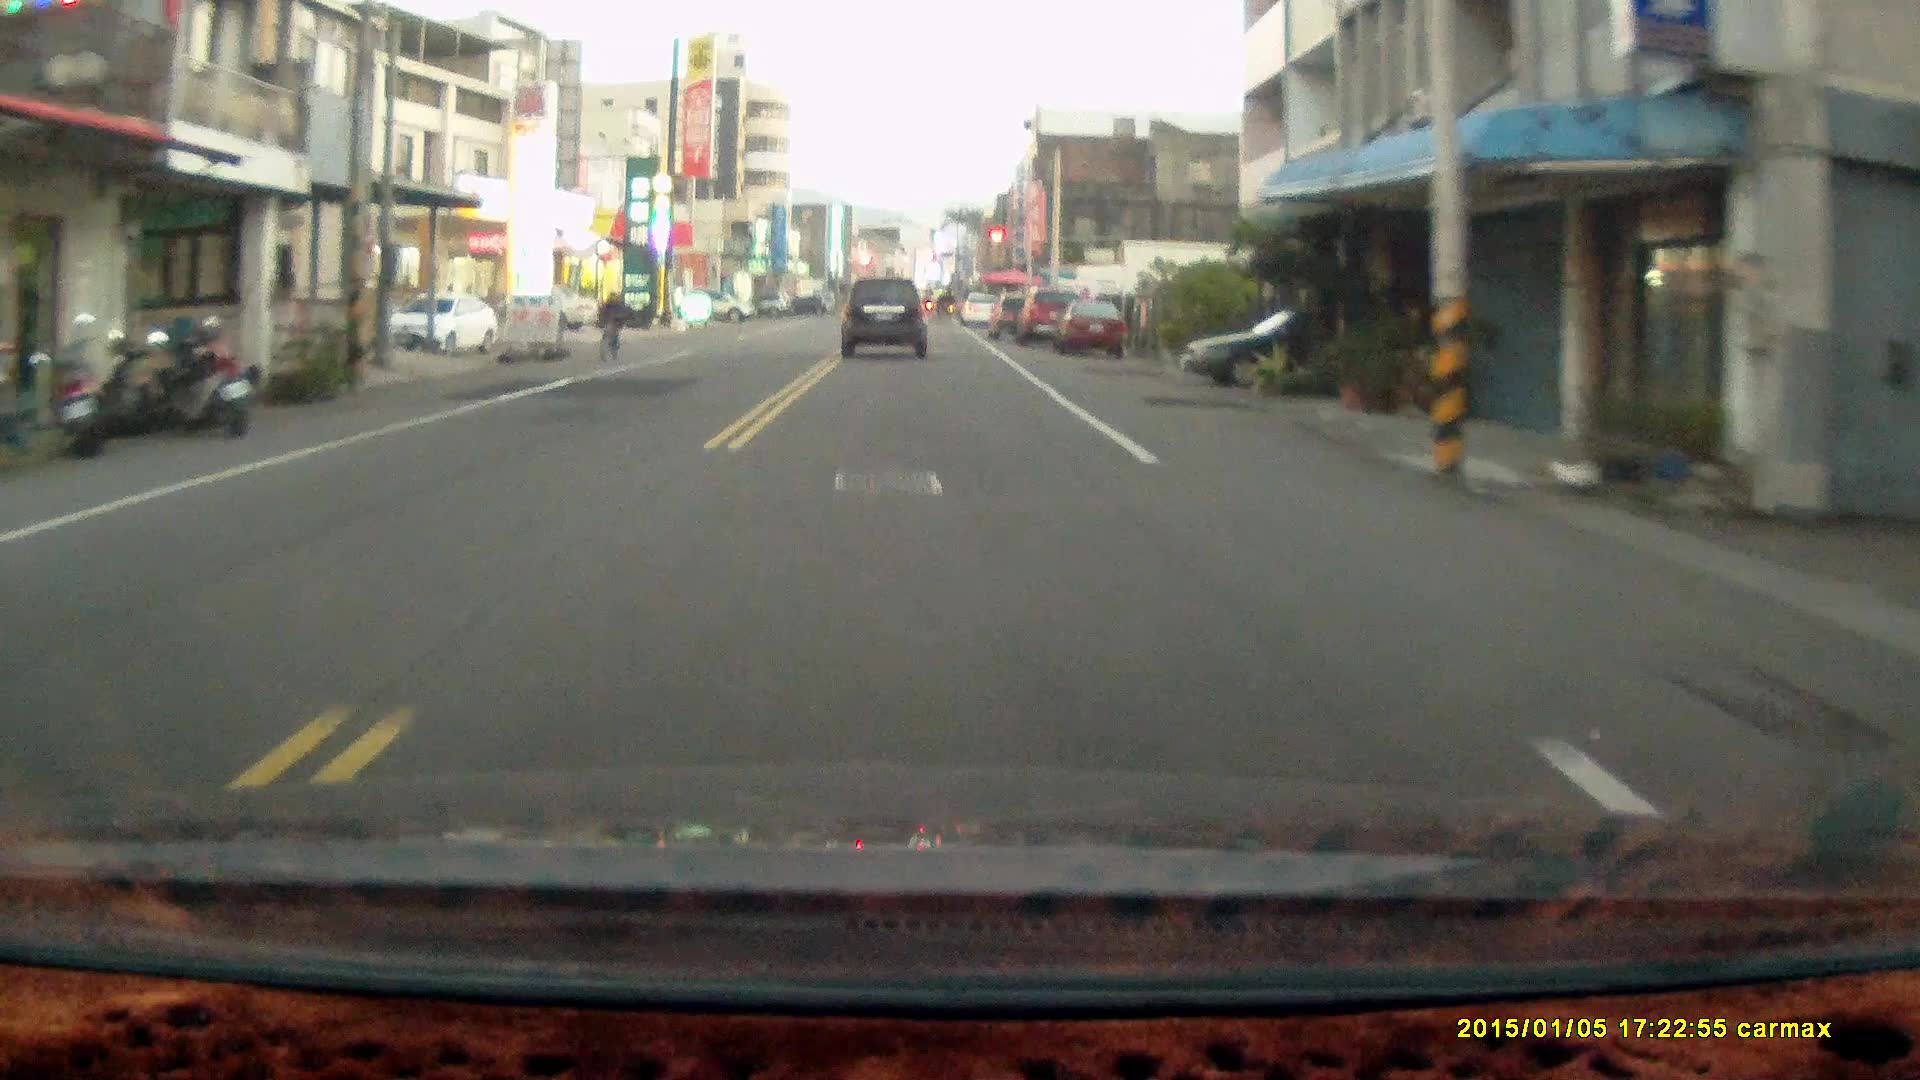rider: (597, 288, 624, 365)
vehicle: (1179, 319, 1366, 384), (839, 275, 935, 362), (394, 290, 496, 354), (489, 282, 601, 335), (1052, 297, 1131, 359), (671, 286, 758, 323)
